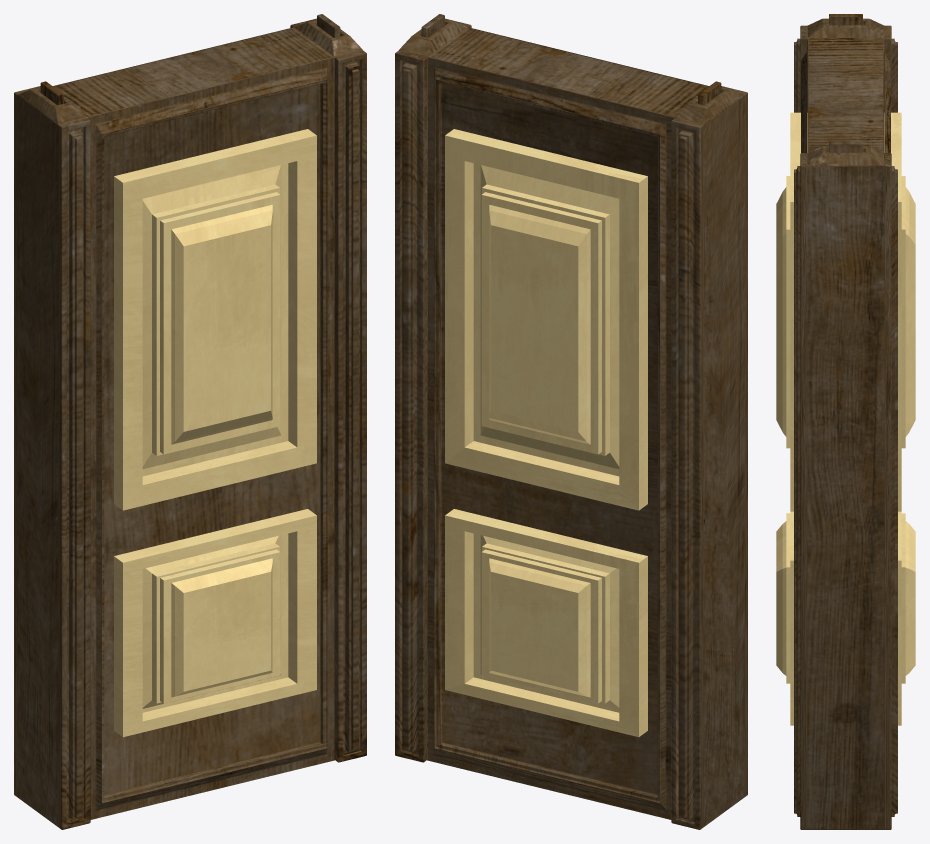
The model's file is C_Door_.fbx.
3 views of the same model, side by side, from view 1: azimuth 30°, elevation 25°; view 2: azimuth 150°, elevation 25°; view 3: azimuth 270°, elevation 25° (orthographic). The views are drawn at different scales.
Visible parts, largest first — view 1: C_Door; view 2: C_Door; view 3: C_Door.
Boxes of the visible parts, left/top/right/bottom form: C_Door: left=14, top=14, right=366, bottom=829; C_Door: left=395, top=14, right=747, bottom=829; C_Door: left=776, top=14, right=915, bottom=829.
Bounding box in the file's own units: 100 × 226 × 41.87.
